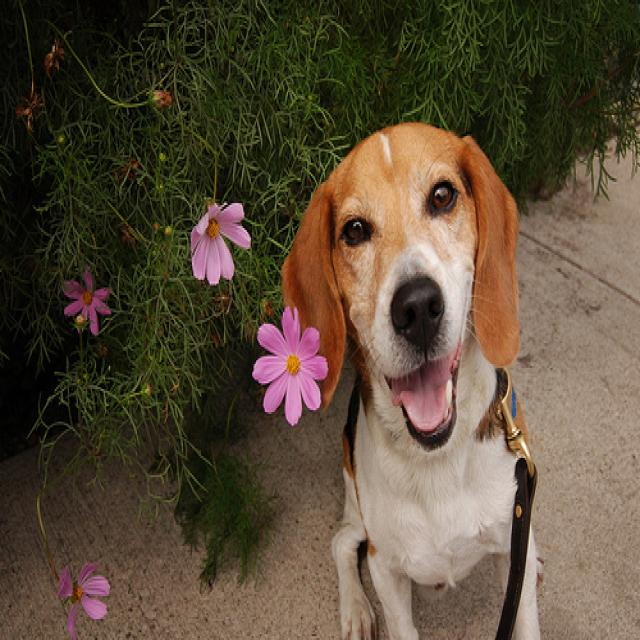dog-beagle: (275, 113, 552, 636)
